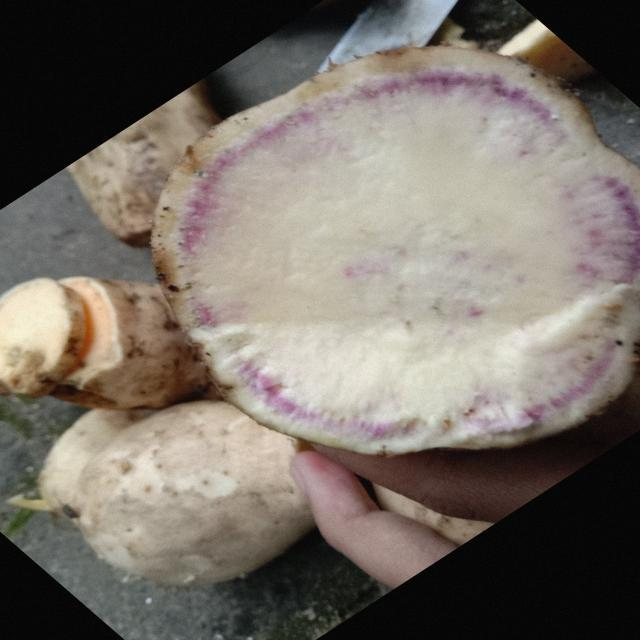Healthy Sweet Potato: (152, 46, 638, 454)
